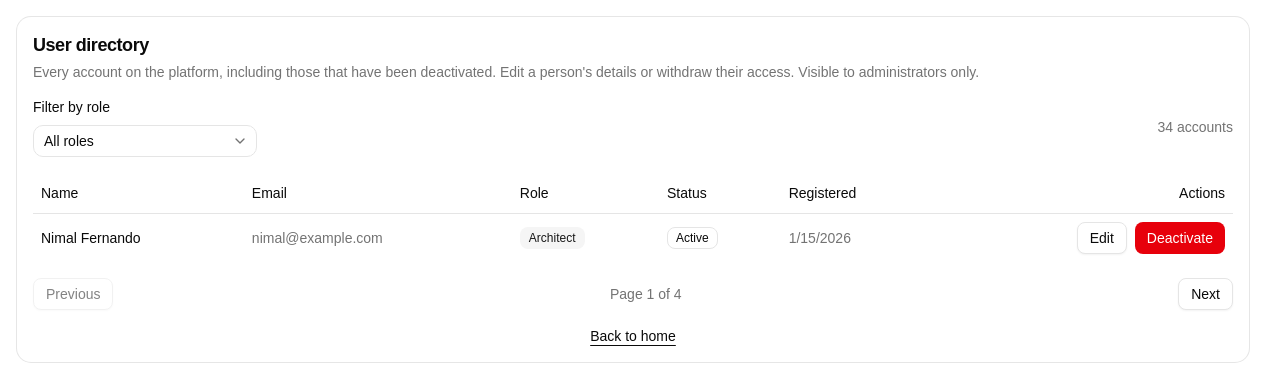
Test: AdminUsersPage › listing and paging › asks for the next page when Next is clicked
What coordinates should you click on to do the following:
click the button "Next"
I would click on:
 (1206, 294)
Its box is [1178,278,1233,310].
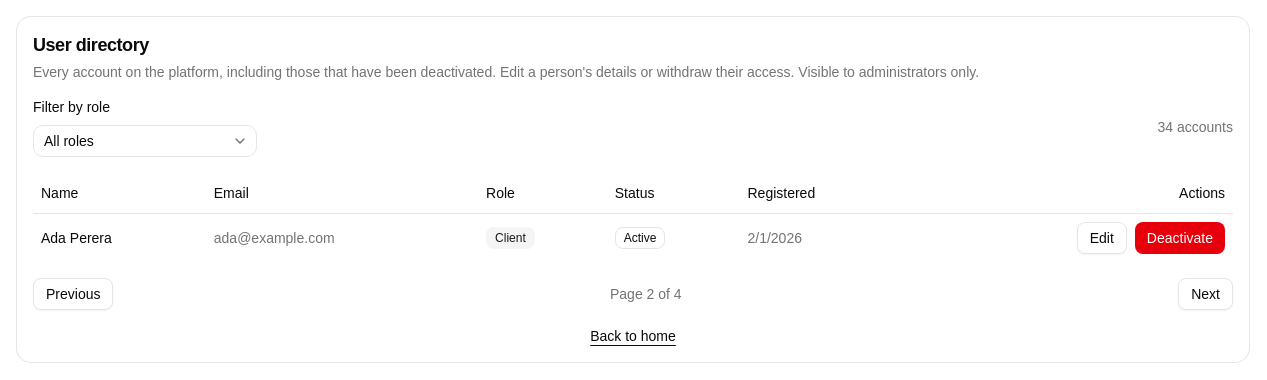
expect the text "Ada Perera" is shown: met, box [33,213,206,262]
